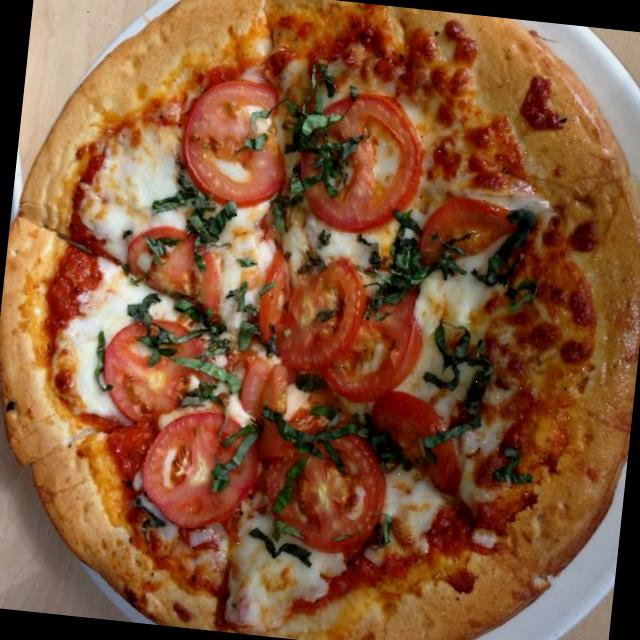basil: (286, 102, 350, 200), (426, 326, 496, 400), (373, 215, 422, 304), (466, 260, 540, 312), (168, 300, 232, 356), (495, 202, 541, 267), (170, 352, 242, 390), (490, 436, 537, 490), (272, 419, 344, 454), (82, 328, 116, 394), (268, 458, 302, 522), (117, 289, 160, 330), (428, 232, 464, 280)
pizza: (0, 0, 640, 640)
tomato: (286, 87, 426, 239), (250, 420, 388, 555), (172, 70, 296, 214), (133, 404, 263, 534), (314, 282, 430, 403), (90, 310, 202, 430), (270, 248, 368, 380), (112, 220, 225, 326), (356, 387, 465, 494), (409, 186, 521, 286), (212, 338, 292, 422), (247, 241, 300, 347)
